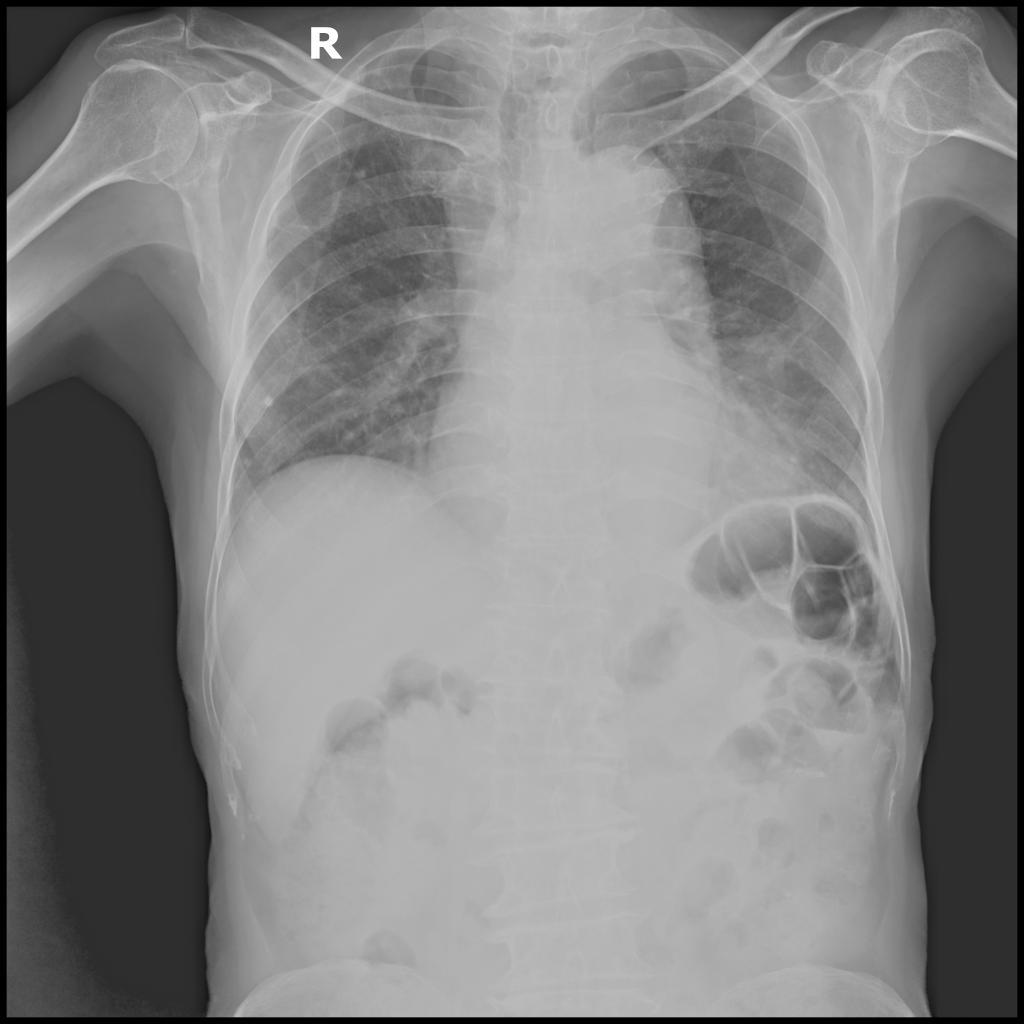Nodule: (355, 167, 372, 181), (261, 396, 275, 408)
